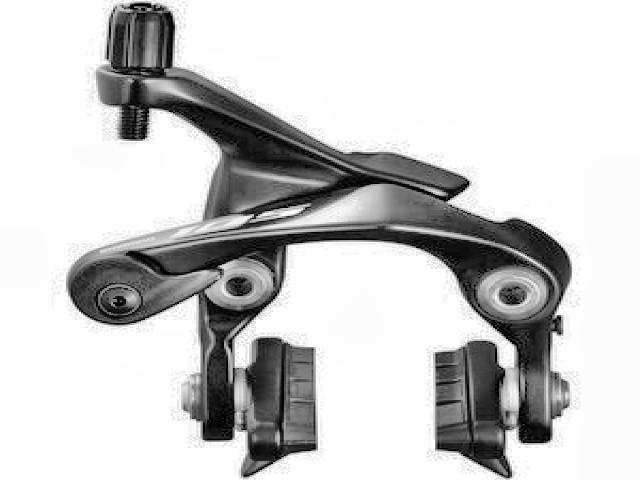rim_brake: (65, 0, 571, 480)
